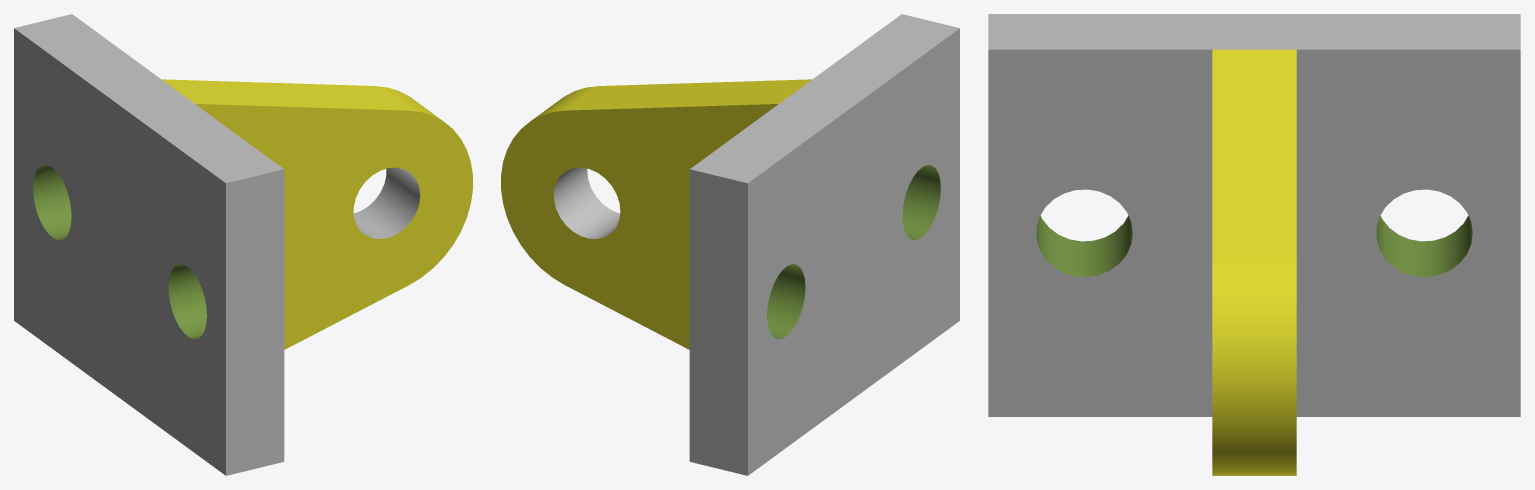
3 renders of one model, left to right at view 1: azimuth 30°, elevation 25°; view 2: azimuth 150°, elevation 25°; view 3: azimuth 270°, elevation 25°, orthographic. The views are drawn at different scales.
Visible parts, largest first — view 1: Solid2; view 2: Solid2; view 3: Solid2.
Part boxes in pixels (x1,y1,x2,y2): Solid2: [14, 14, 472, 475]; Solid2: [501, 14, 959, 475]; Solid2: [988, 14, 1520, 475].
Bounding box in the file's own units: 0.1013 × 0.0842 × 0.1106.
